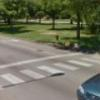cars: (74, 74, 100, 100)
crosswalks: (0, 56, 100, 84)
